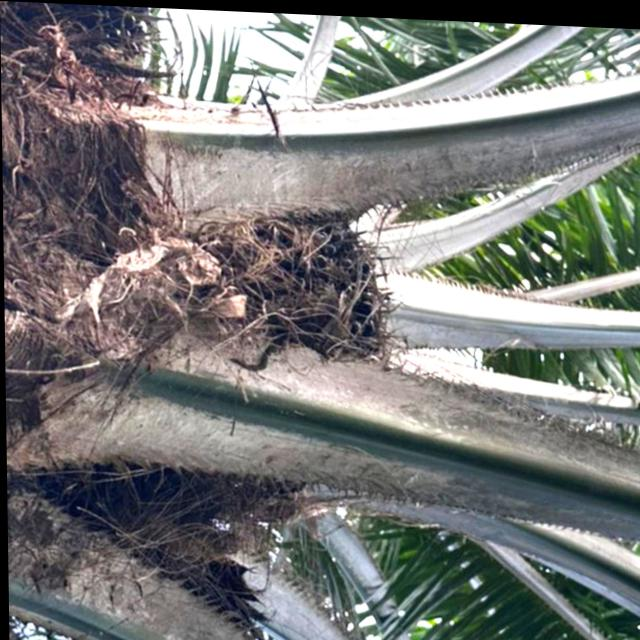unripe: (203, 186, 407, 377)
